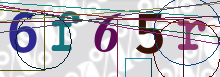5: (135, 11, 163, 53)
6: (8, 10, 38, 54), (93, 11, 121, 52)
f: (50, 9, 80, 52)
r: (176, 18, 206, 53)
